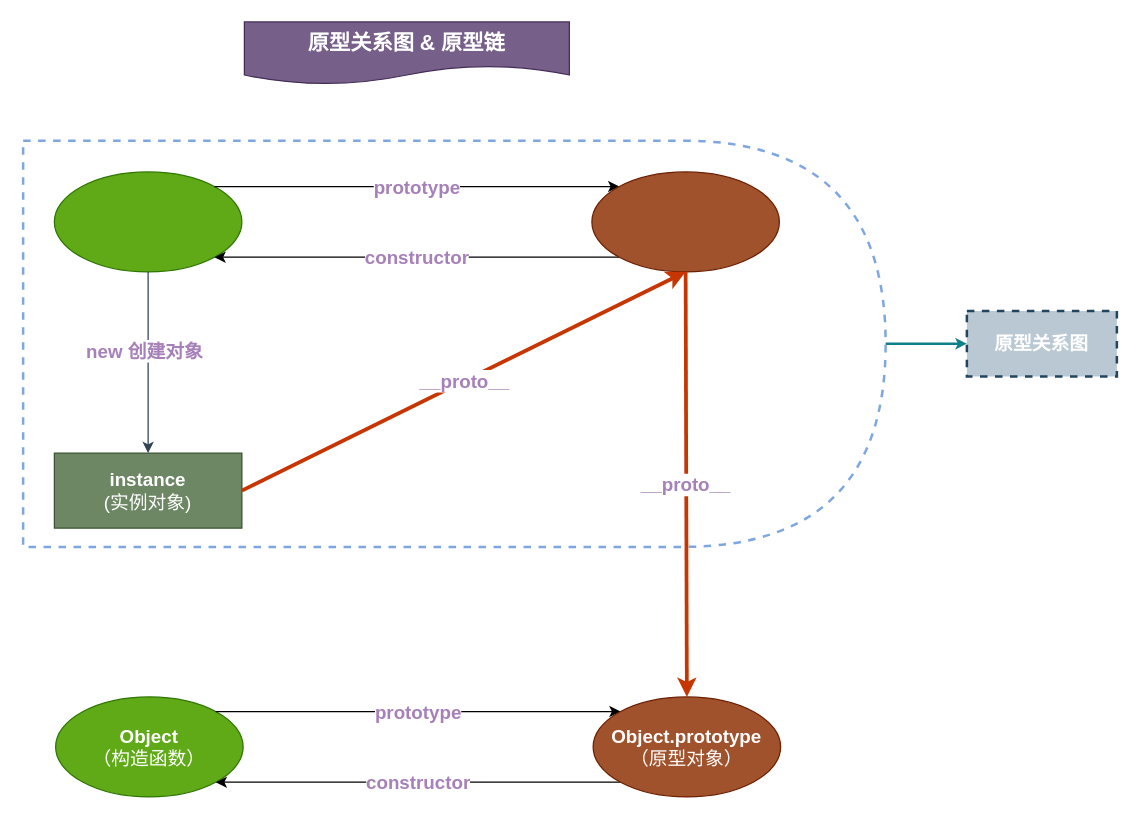
Some shapes in this 1139 by 819 pixel diagram are drawn without their labels. The centre of each missing label's shape, as x and y in pixels:
"consFun （构造函数）" goes at [147,221].
"consFun.prototype （原型对象）" goes at [685,221].
